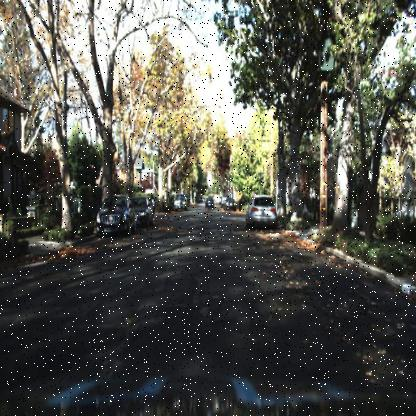car: (92, 186, 137, 241), (242, 189, 280, 234), (134, 192, 154, 234), (128, 195, 154, 223), (171, 196, 187, 213), (223, 196, 238, 214), (202, 195, 216, 211), (224, 198, 236, 214)
